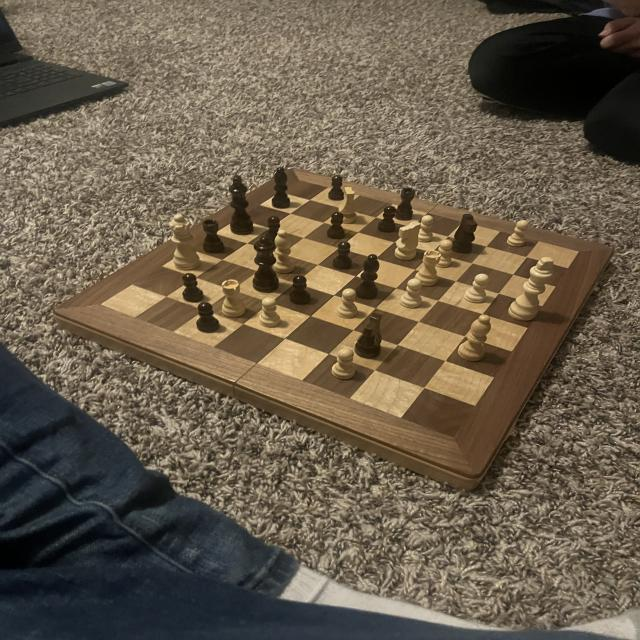bishop: (354, 252, 382, 300), (267, 165, 292, 211)
black-bishop: (225, 172, 256, 238)
black-king: (351, 312, 392, 364), (450, 210, 479, 254)
black-knight: (192, 301, 224, 336), (180, 269, 208, 305), (287, 274, 314, 308), (375, 205, 399, 235), (323, 211, 348, 239), (332, 240, 354, 271), (264, 214, 284, 246), (326, 174, 346, 202)
black-pawn: (250, 233, 282, 296)
black-queen: (199, 218, 229, 256), (393, 184, 417, 220)
black-rook: (456, 311, 496, 363), (270, 228, 299, 274)
white-bishop: (506, 256, 558, 324)
white-king: (395, 218, 423, 262), (337, 184, 359, 225)
white-knight: (328, 346, 359, 382), (256, 296, 286, 330), (398, 277, 427, 311), (334, 287, 363, 319), (463, 272, 491, 305), (505, 219, 533, 249), (431, 239, 458, 270), (414, 211, 437, 244)
white-pawn: (167, 211, 205, 272)
white-queen: (219, 278, 250, 319), (412, 249, 444, 288)
